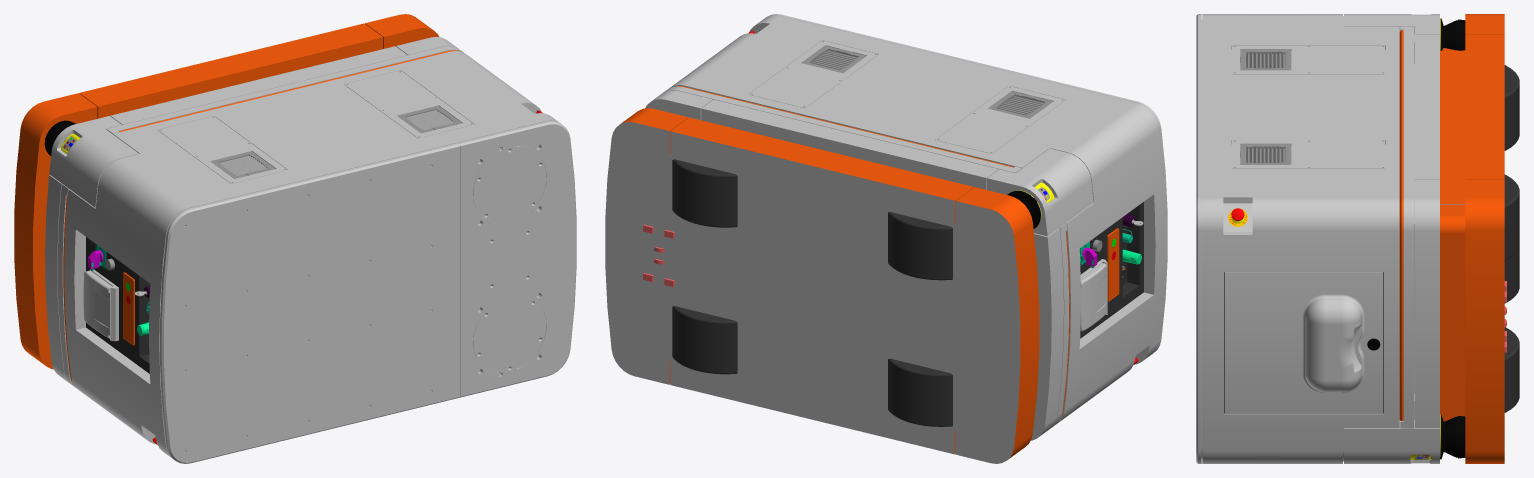
Rendered from MobileBase.fbx.
3 renders of one model, left to right at view 1: azimuth 30°, elevation 25°; view 2: azimuth 150°, elevation 25°; view 3: azimuth 270°, elevation 25°, orthographic. The views are drawn at different scales.
Visible parts, largest first — view 1: KMP200stp11 - Part 5, KMP200stp11 - Part 4, KMP200.stp<1>[1] - Part, KMP200stp11 - Part 2; view 2: KMP200stp11 - Part 5, KMP200.stp<1>[1] - Part, KMP200stp11 - Part 4, KMP200stp11 - Part 2; view 3: KMP200stp11 - Part 5, KMP200stp11 - Part 4, KMP200.stp<1>[3] - Part, KMP200.stp<1>[1] - Part, KMP200stp11 - Part 2, KMP200stp11 - Part 12.
Part boxes in pixels (bbox=[...]): KMP200stp11 - Part 5: bbox=[45, 36, 576, 463]; KMP200stp11 - Part 4: bbox=[14, 14, 458, 384]; KMP200.stp<1>[1] - Part: bbox=[86, 237, 150, 373]; KMP200stp11 - Part 2: bbox=[62, 106, 461, 270]; KMP200stp11 - Part 5: bbox=[605, 14, 1167, 463]; KMP200.stp<1>[1] - Part: bbox=[672, 159, 1143, 426]; KMP200stp11 - Part 4: bbox=[621, 86, 1124, 459]; KMP200stp11 - Part 2: bbox=[802, 46, 1125, 277]; KMP200stp11 - Part 5: bbox=[1196, 14, 1465, 463]; KMP200stp11 - Part 4: bbox=[1399, 14, 1504, 463]; KMP200.stp<1>[3] - Part: bbox=[1224, 272, 1382, 413]; KMP200.stp<1>[1] - Part: bbox=[1224, 65, 1519, 413]; KMP200stp11 - Part 2: bbox=[1240, 49, 1429, 459]; KMP200stp11 - Part 12: bbox=[1420, 18, 1465, 459].
Size of the model in its own units: 112 by 63.04 by 69.98.
